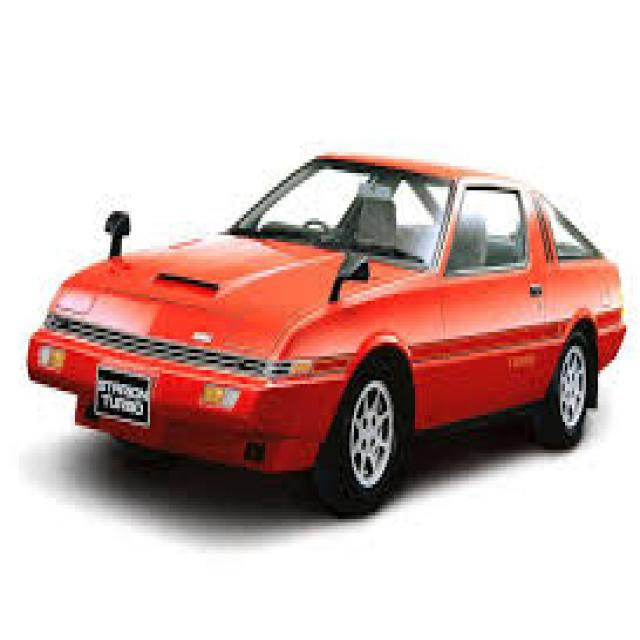Car: (26, 152, 625, 530)
